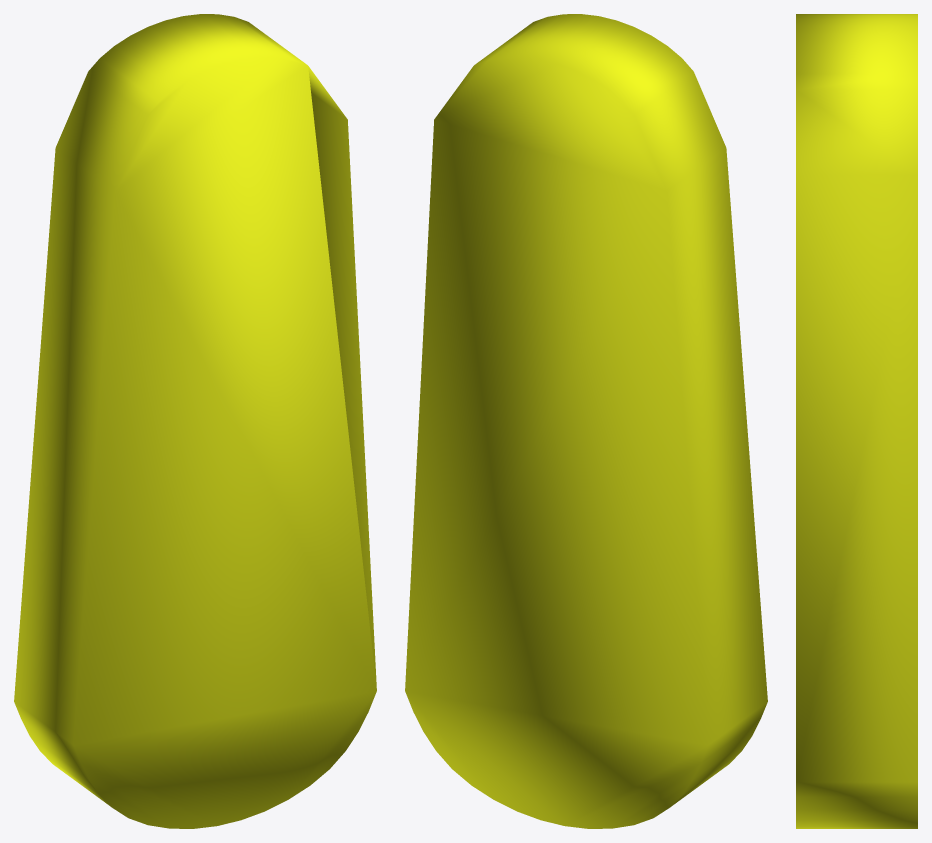
Rendered from membre31.fbx.
The picture shows the model from 3 angles, left to right: view 1: azimuth 30°, elevation 25°; view 2: azimuth 150°, elevation 25°; view 3: azimuth 270°, elevation 25°; orthographic projection. The views are drawn at different scales.
Parts seen in each view (by area): view 1: membre31; view 2: membre31; view 3: membre31.
Boxes of the visible parts, box(x1,y1,x2,y2) form: membre31: box(14, 14, 376, 828); membre31: box(405, 14, 767, 828); membre31: box(796, 14, 917, 828).
Size of the model in its own units: 153 by 367 by 52.
